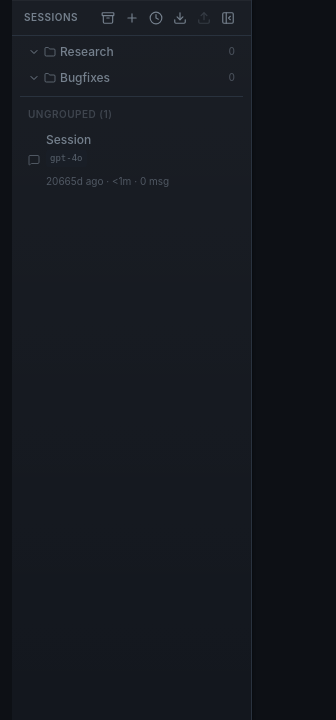
Scenario: Session groups — context menu › shows group names in the move-to-group submenu
The width and height of the screenshot is (336, 720).
Right-click the button "Session gpt-4o 20665d ago · <1m · 0 msg": (132, 160) x1=20 y1=126 x2=243 y2=194
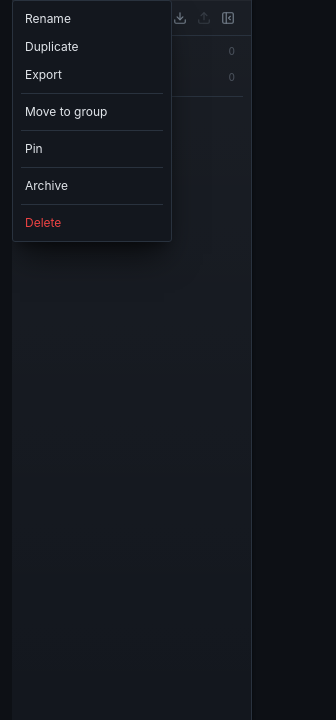
Note: Click "Move to group"
Click the button "Move to group": (92, 112) x1=13 y1=98 x2=171 y2=126
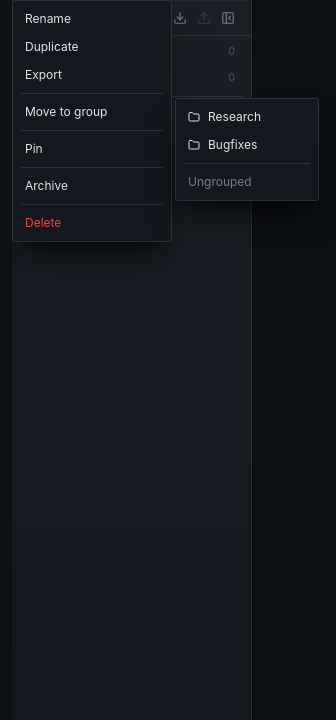
Now the button "Research" is shown, box x1=176 y1=103 x2=318 y2=131
Now the button "Ungrouped" is shown, box x1=176 y1=168 x2=318 y2=196
